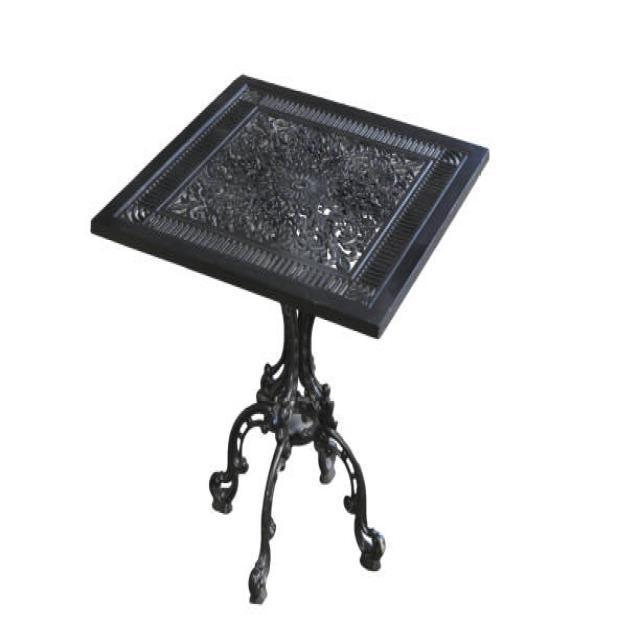table: (88, 70, 490, 604)
